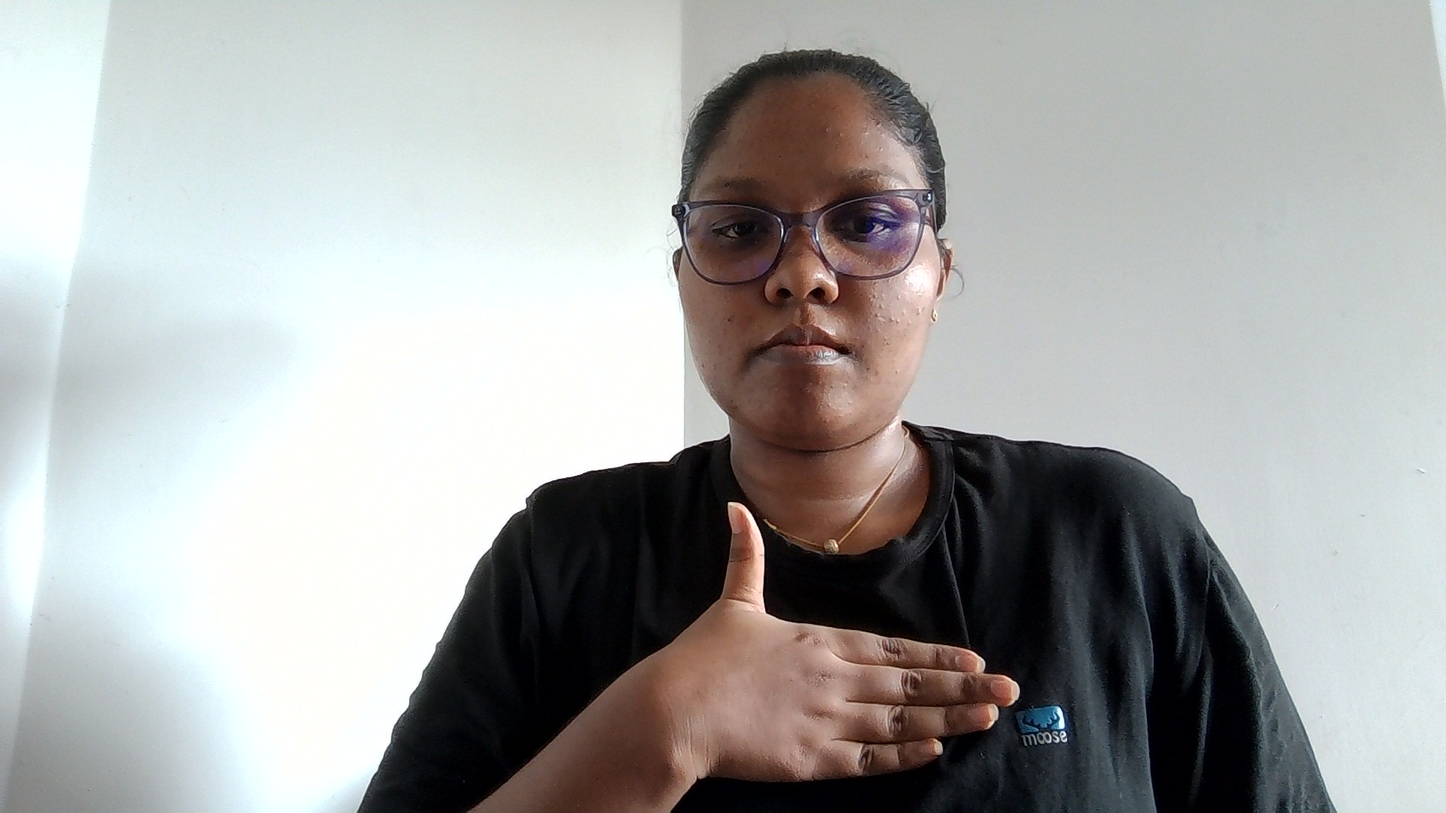Please: (552, 524, 1020, 813)
